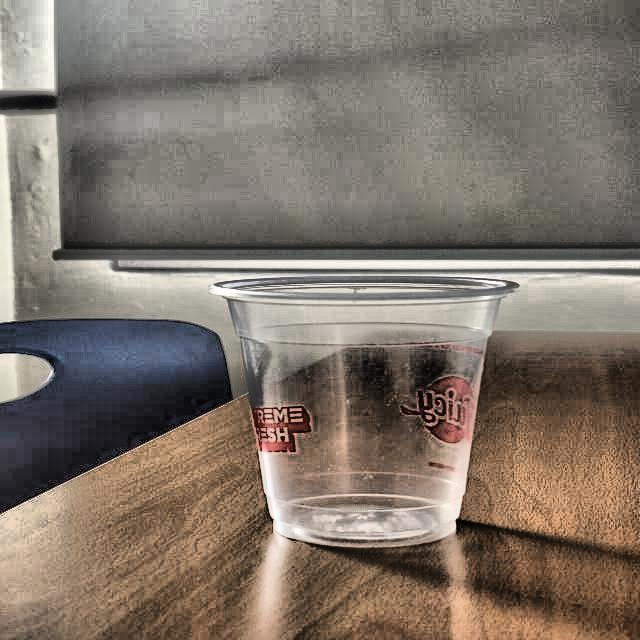plastic cup: (207, 272, 518, 550)
